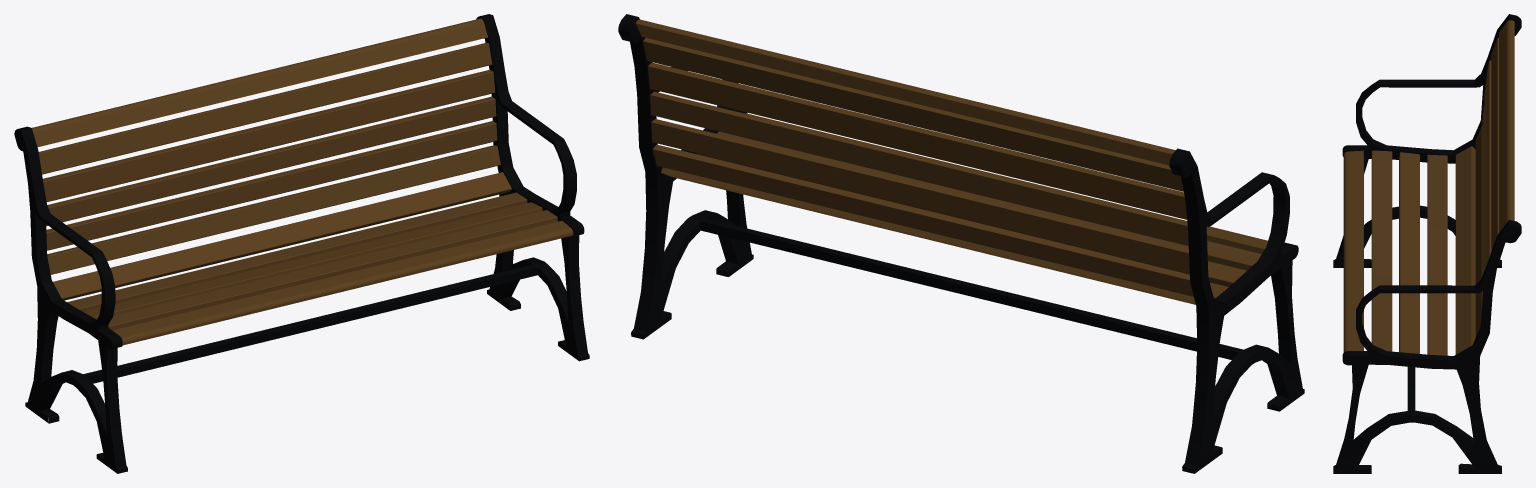
Rendered from BenchIronVinyl_Taller.glb.
The picture shows the model from 3 angles, left to right: view 1: azimuth 30°, elevation 25°; view 2: azimuth 150°, elevation 25°; view 3: azimuth 270°, elevation 25°; orthographic projection. The views are drawn at different scales.
Parts seen in each view (by area): view 1: BenchIronVinyl; view 2: BenchIronVinyl; view 3: BenchIronVinyl.
Part boxes in pixels (x1,y1,x2,y2): BenchIronVinyl: (14, 14, 589, 473); BenchIronVinyl: (618, 14, 1304, 473); BenchIronVinyl: (1333, 14, 1521, 473).
Size of what is drawn, in the model's own units: 1.99 by 1.1 by 0.7529.
Materials: 1 (1 with a texture image).
